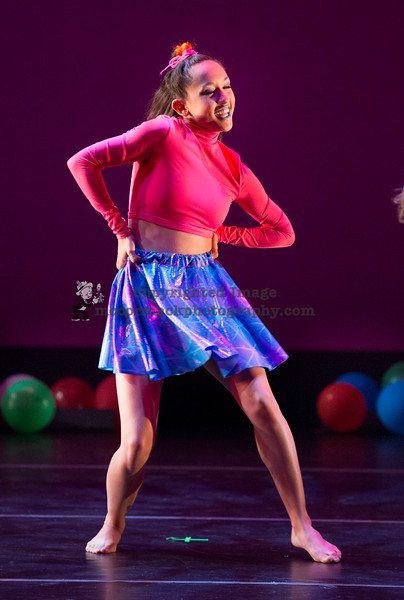Person: (57, 40, 348, 570)
